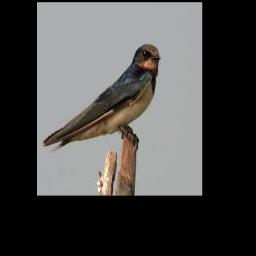Swallow: (43, 45, 160, 150)
